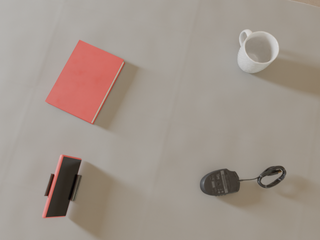book: (45, 40, 125, 124)
cup: (238, 29, 279, 73)
mouse: (200, 169, 243, 196)
phone: (42, 155, 81, 218)
